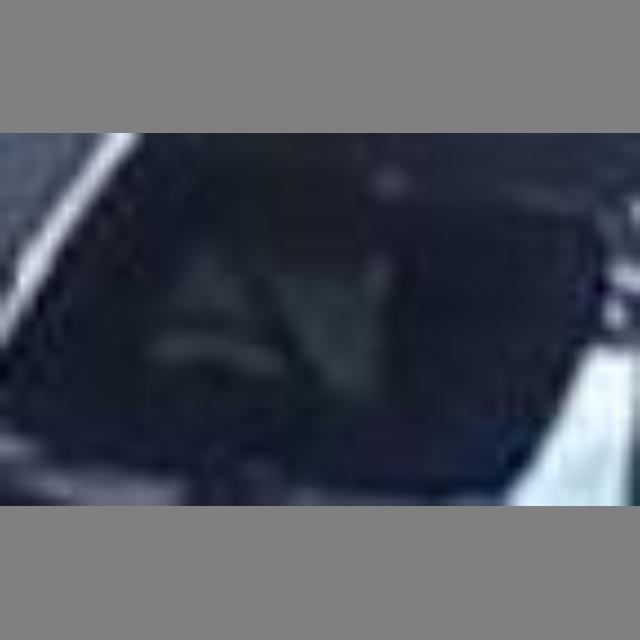pakai: (169, 231, 409, 444)
